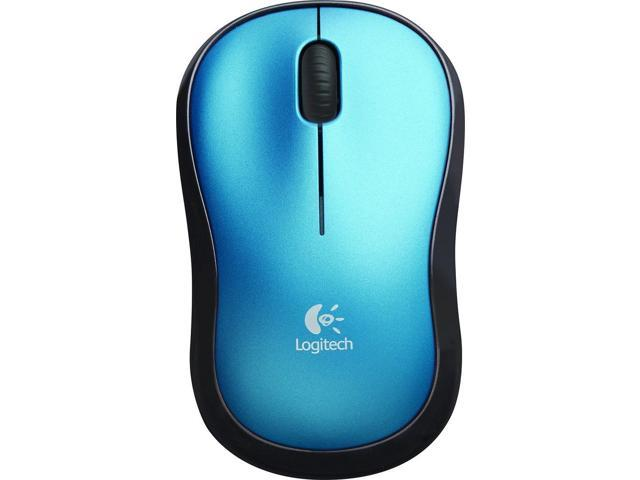logitech-mouse-m185: (176, 2, 467, 480)
